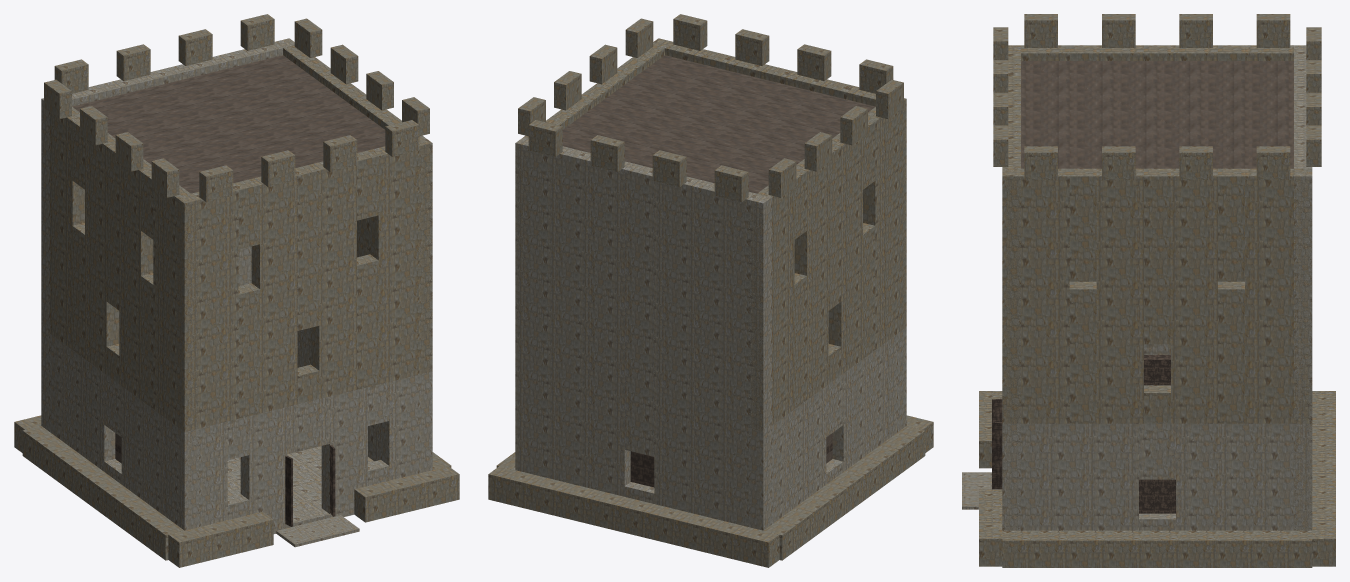
The model's file is prop_hk_trainer_mage.glb.
The picture shows the model from 3 angles, left to right: view 1: azimuth 30°, elevation 25°; view 2: azimuth 150°, elevation 25°; view 3: azimuth 270°, elevation 25°; orthographic projection. The views are drawn at different scales.
Parts seen in each view (by area): view 1: building_hk_trainer_mage; view 2: building_hk_trainer_mage; view 3: building_hk_trainer_mage.
Boxes of the visible parts, x1=… form: building_hk_trainer_mage: x1=14, y1=14, x2=459, y2=567; building_hk_trainer_mage: x1=488, y1=14, x2=933, y2=567; building_hk_trainer_mage: x1=962, y1=14, x2=1335, y2=567.
Size of the model in its own units: 10.6 by 13.4 by 11.1.
5 materials, 5 textured.
